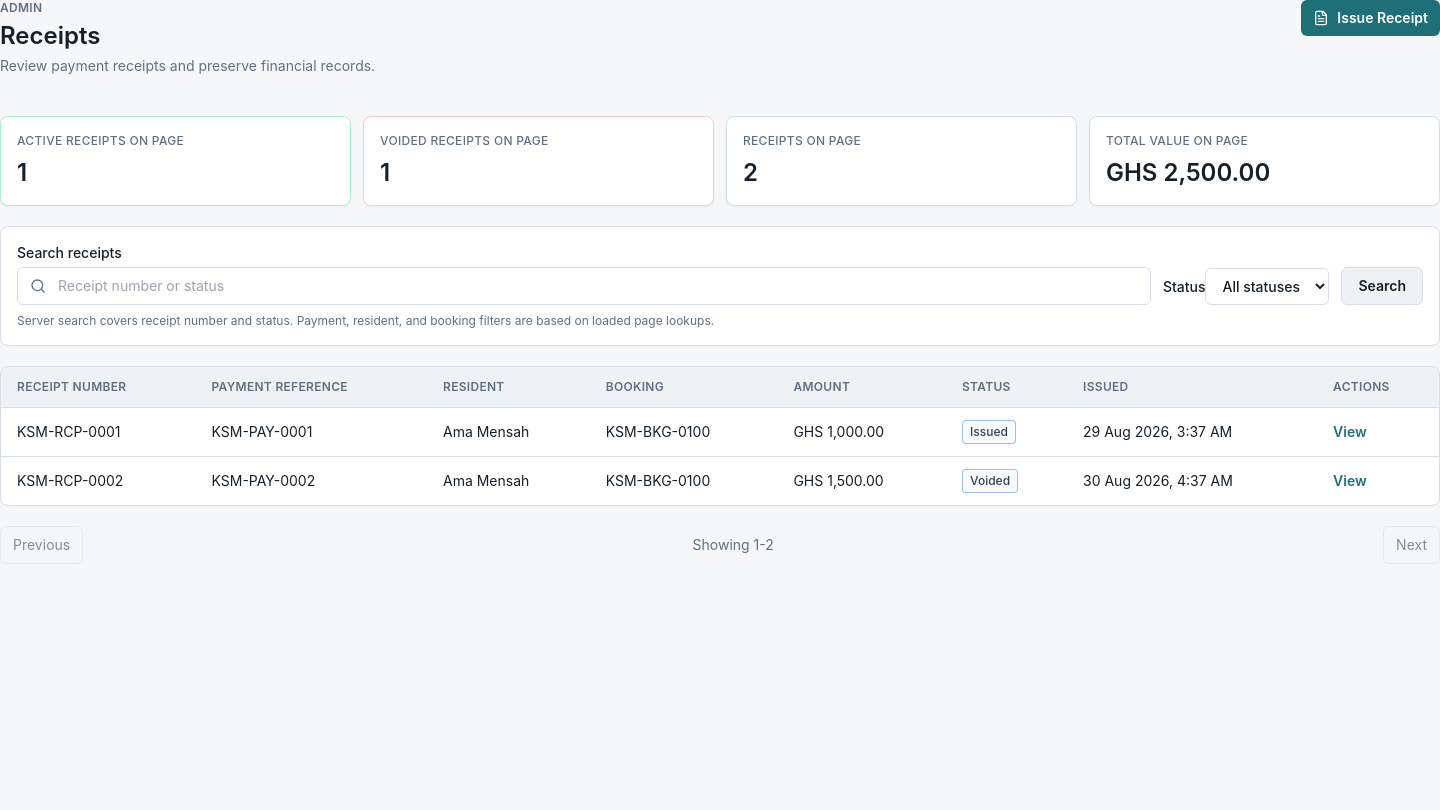
Test case: ReceiptsPage › surfaces void failures
The image size is (1440, 810).
Expected: the text "KSM-RCP-0001" is shown, [1,408,196,456]
Click the button "View" in the row of "KSM-RCP-0001".
click(1350, 432)  # box [1333,422,1367,442]
(page scrolled)
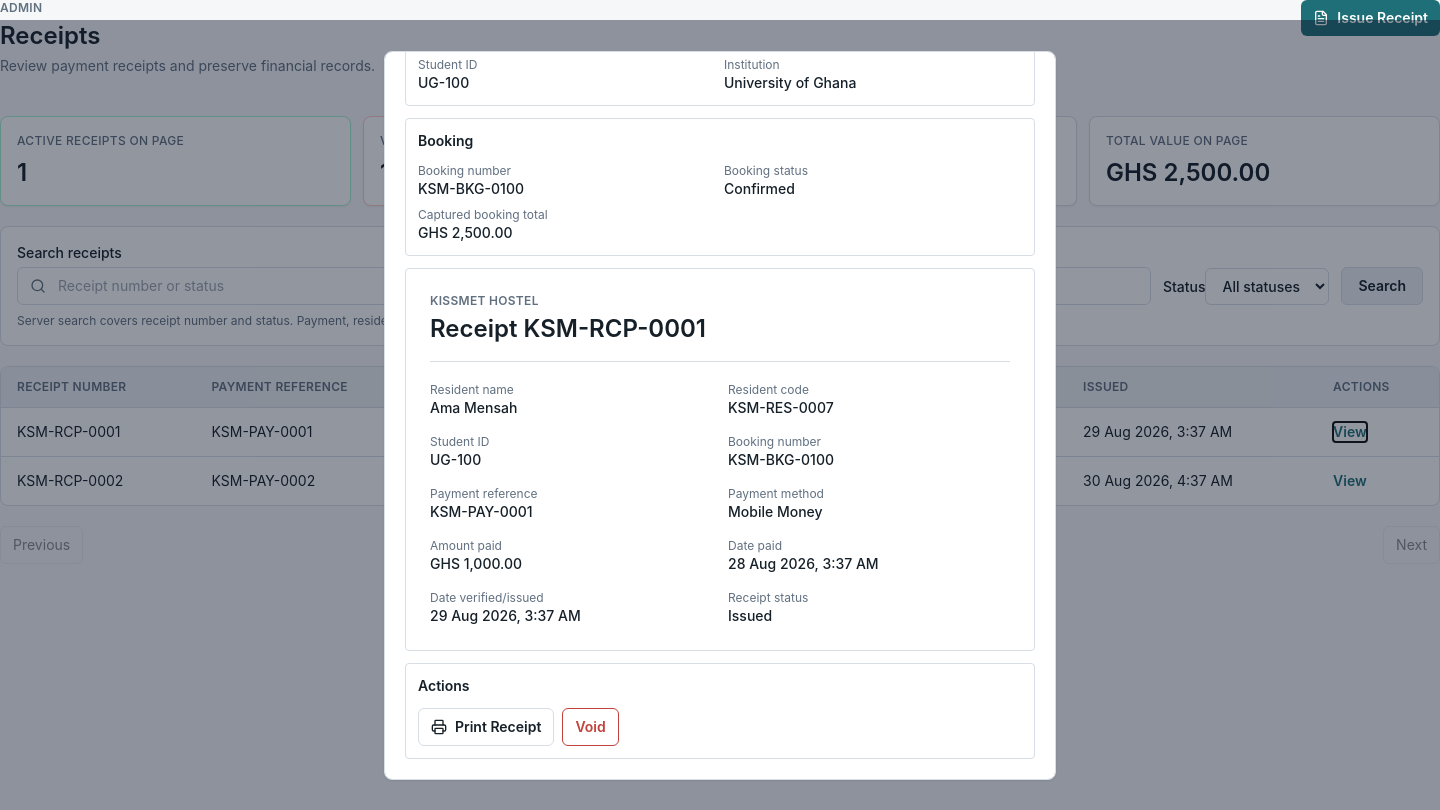
Click the button "Void".
click(591, 726)  # box [562,708,619,746]
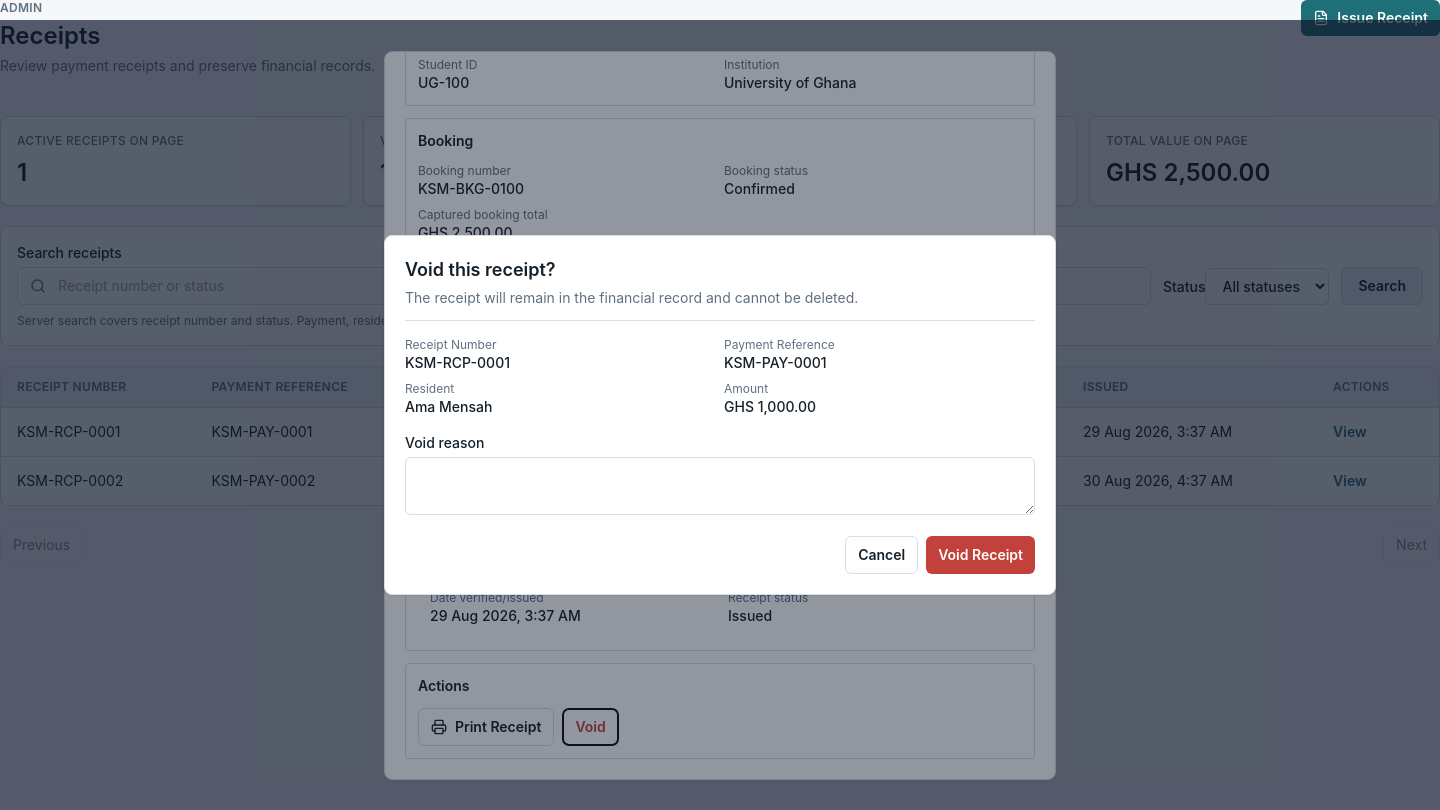
Click the button "Void Receipt".
click(981, 555)  # box [926,536,1035,574]
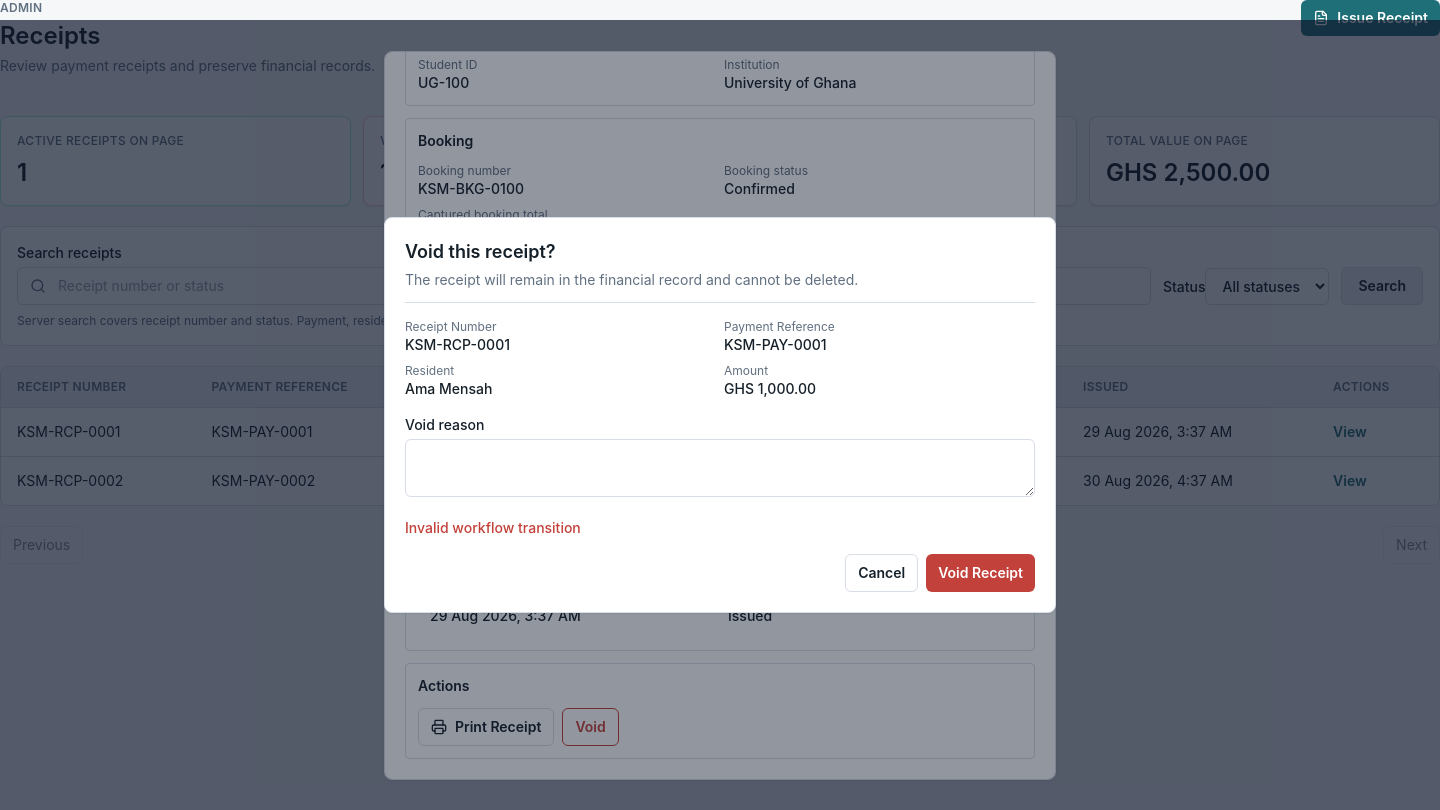
Expected: the message reads "Invalid workflow transition", [405,519,581,536]
